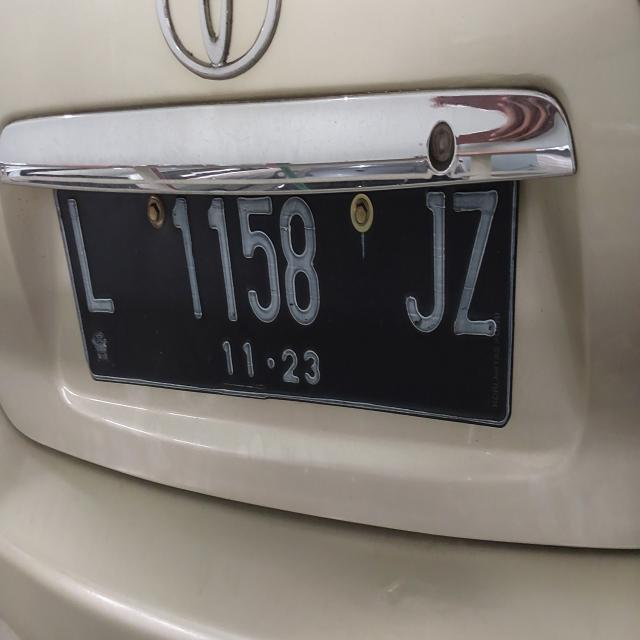1: (159, 184, 214, 336), (202, 180, 248, 334)
5: (226, 182, 290, 338)
8: (276, 177, 333, 340)
J: (394, 178, 462, 366)
L: (59, 174, 122, 329)
Z: (446, 172, 504, 366)
